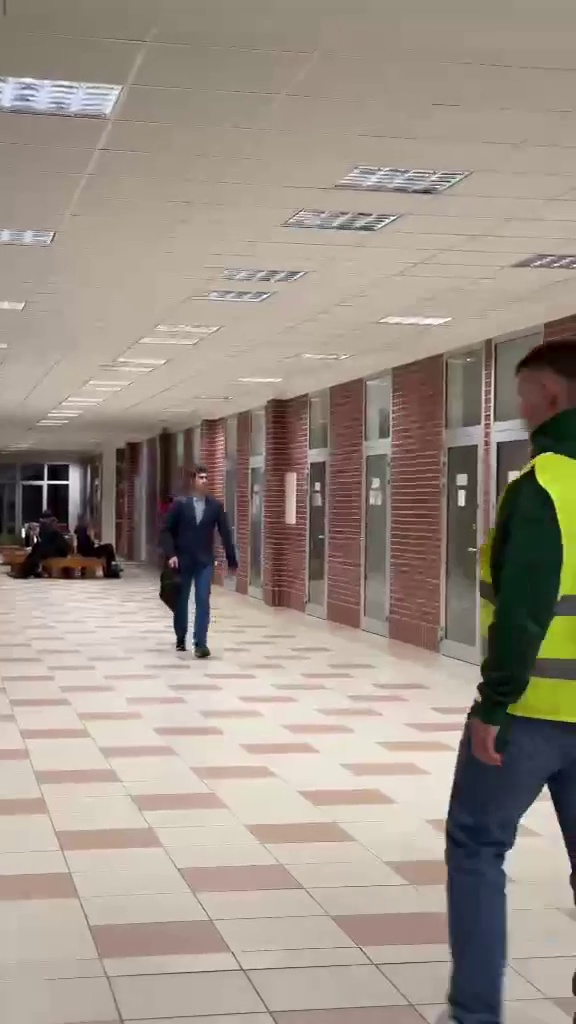no vest: (153, 457, 239, 655)
vest: (444, 338, 576, 998)
